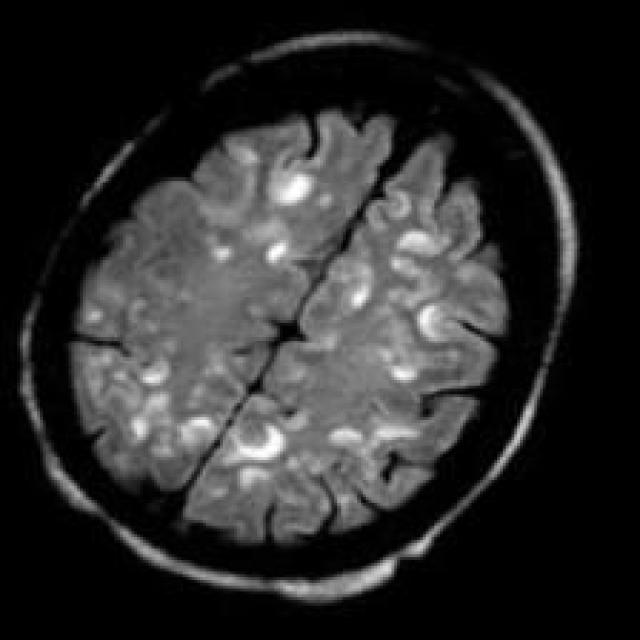no_tumor: (23, 32, 590, 594)
